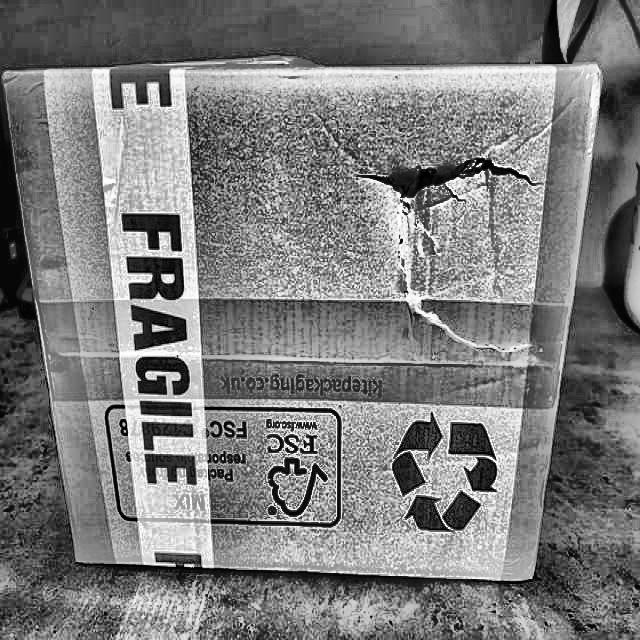box: (0, 54, 610, 596)
hole: (368, 158, 541, 250)
